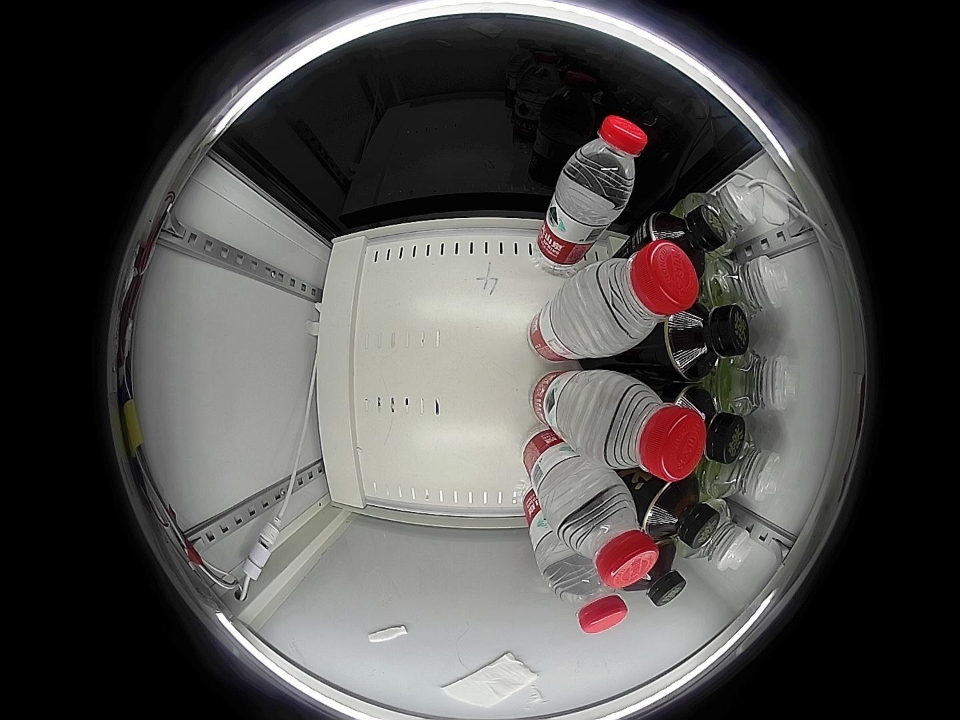jianjiao: (705, 253, 788, 325), (705, 430, 783, 501), (720, 348, 796, 417), (688, 179, 758, 250), (688, 503, 752, 572)
nongfushanquan: (568, 238, 698, 355), (575, 373, 705, 481), (552, 478, 658, 588), (559, 115, 648, 207), (546, 560, 629, 635)
rancha-1: (665, 303, 750, 383), (673, 386, 746, 463), (643, 477, 721, 549), (649, 205, 728, 264), (629, 541, 686, 607)
